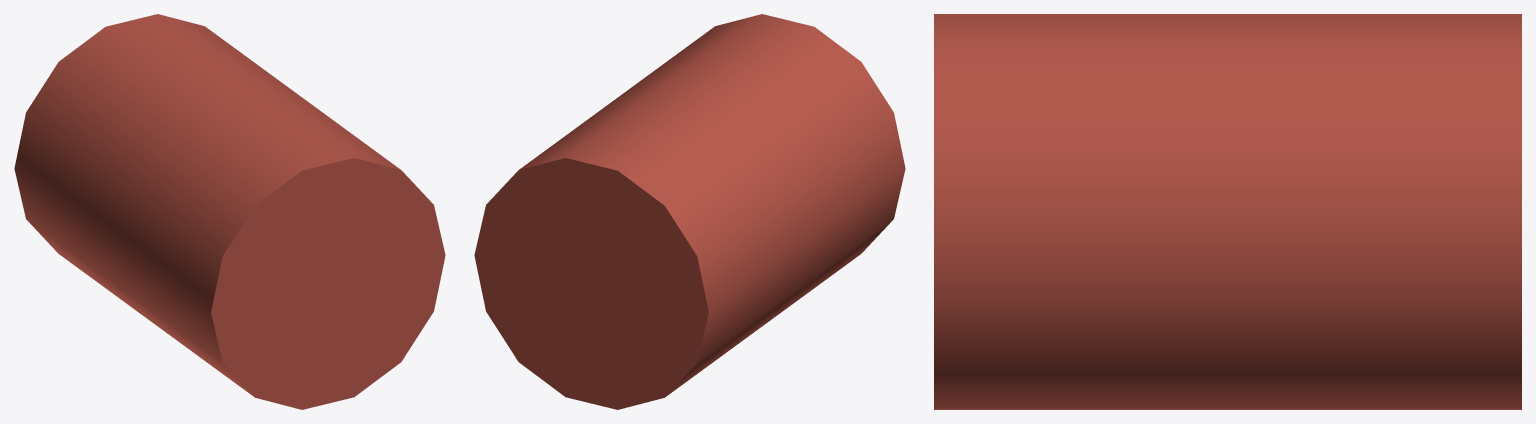
Rendered from buoy-barrel-red.glb.
3 views of the same model, side by side, from view 1: azimuth 30°, elevation 25°; view 2: azimuth 150°, elevation 25°; view 3: azimuth 270°, elevation 25° (orthographic). The views are drawn at different scales.
Parts seen in each view (by area): view 1: buoy-barrel-red; view 2: buoy-barrel-red; view 3: buoy-barrel-red.
Part boxes in pixels (<box>): buoy-barrel-red: <box>14,14,445,409</box>; buoy-barrel-red: <box>474,14,905,409</box>; buoy-barrel-red: <box>934,14,1521,409</box>.
Bounding box in the file's own units: 1.24 × 1.21 × 1.8.
